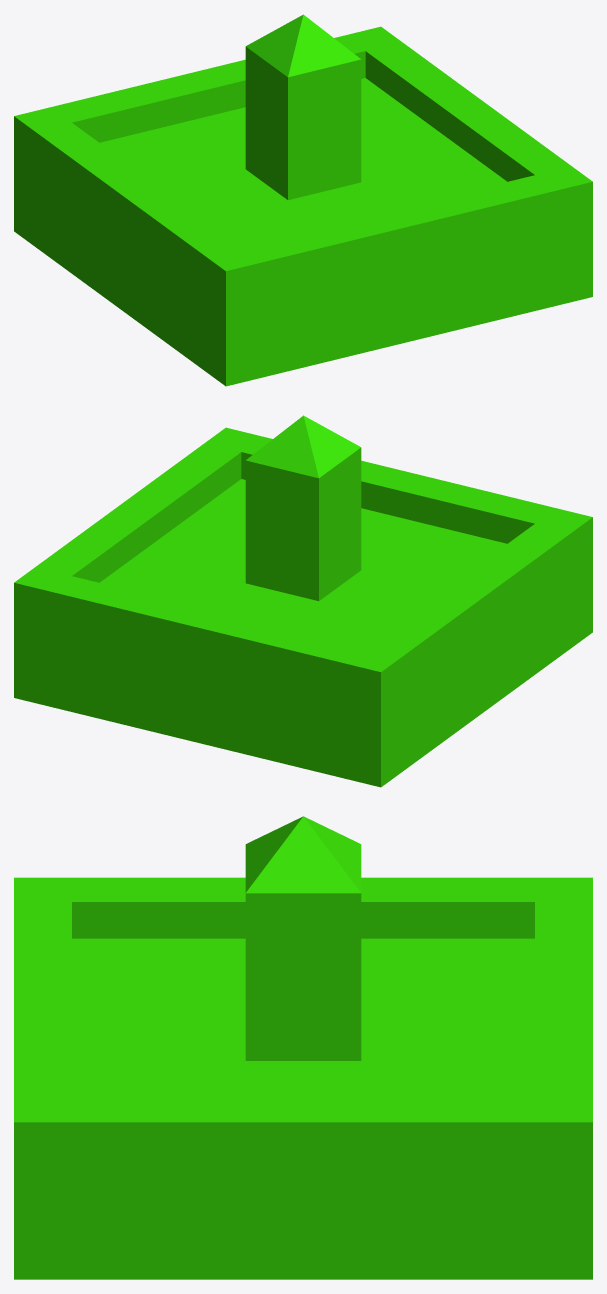
The model's file is fountain01_square_water.fbx.
The picture shows the model from 3 angles, top to bottom: view 1: azimuth 30°, elevation 25°; view 2: azimuth 150°, elevation 25°; view 3: azimuth 270°, elevation 25°; orthographic projection. The views are drawn at different scales.
Visible parts, largest first — view 1: fountain01_square_water; view 2: fountain01_square_water; view 3: fountain01_square_water.
Part boxes in pixels (x1,y1,x2,y2): fountain01_square_water: (14,14,592,386); fountain01_square_water: (14,415,592,787); fountain01_square_water: (14,816,592,1279).
Size of the model in its own units: 200 by 130 by 200.
